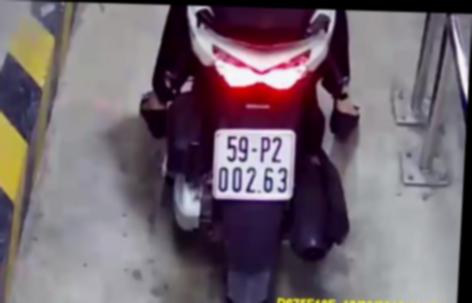License_Plate: (202, 122, 304, 206)
